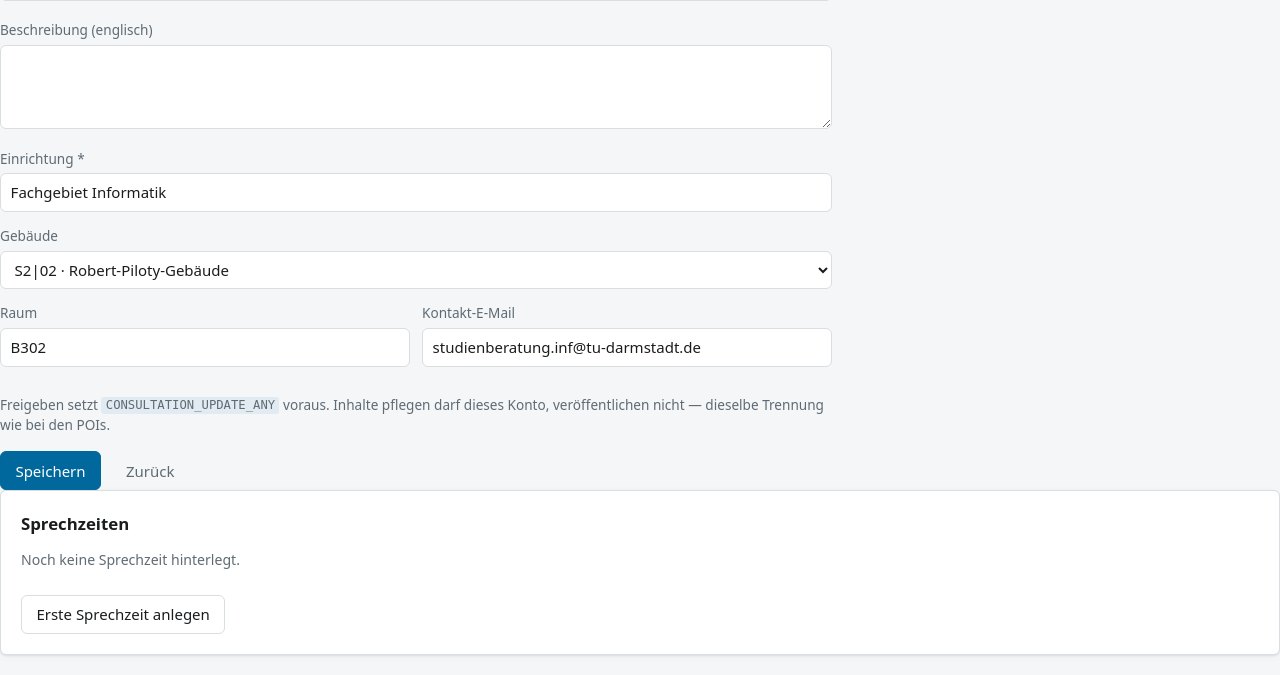
Test case: der Knopf klappt eine Zeile ohne vorbelegte Werte auf
(page scrolled)
Click the button "Erste Sprechzeit anlegen" at (123, 615), box 21,595 -> 225,634
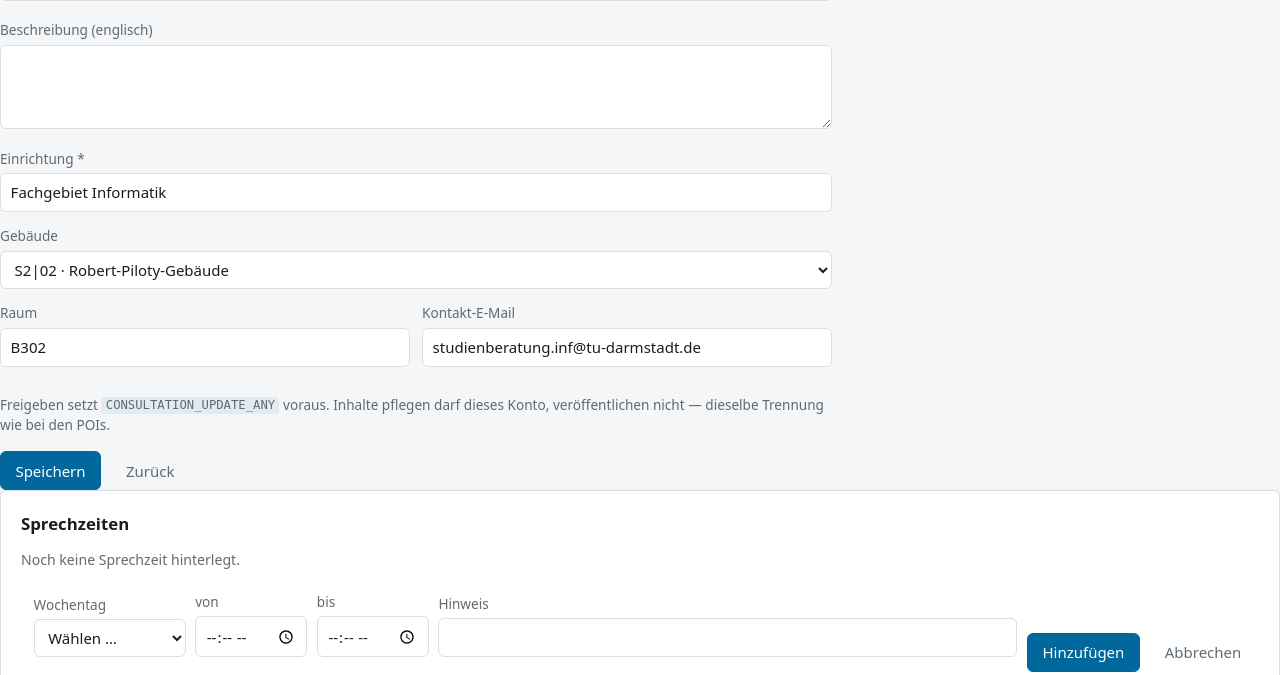
Result: the time field with id "field-start-new" is empty at 195,616 -> 307,657
Result: the time field with id "field-end-new" is empty at 317,616 -> 429,657
Result: the dropdown with id "field-day-new" shows "Wählen …" at 34,619 -> 186,657
